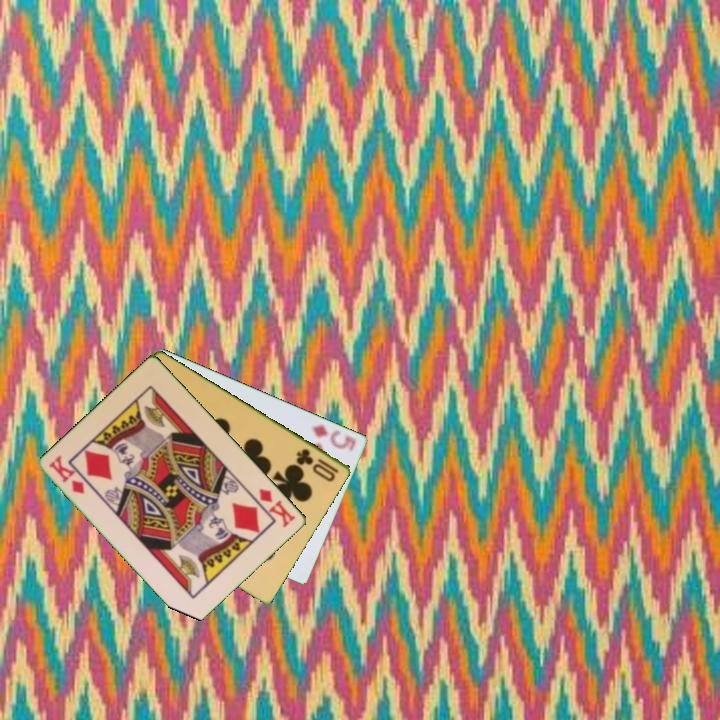10c: (293, 445, 342, 485)
5d: (309, 421, 359, 454)
Kd: (256, 484, 299, 531), (46, 452, 88, 497)
